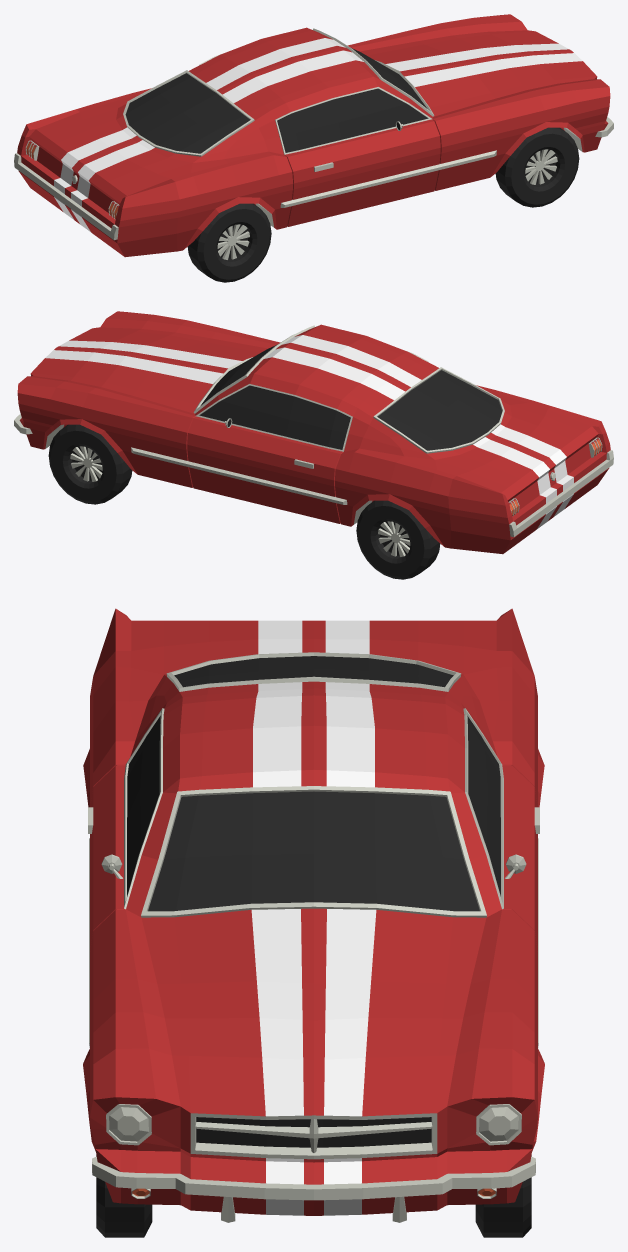
Rendered from car.fbx.
3 renders of one model, top to bottom at view 1: azimuth 30°, elevation 25°; view 2: azimuth 150°, elevation 25°; view 3: azimuth 270°, elevation 25°, orthographic. The views are drawn at different scales.
Visible parts, largest first — view 1: mustang; view 2: mustang; view 3: mustang.
Part boxes in pixels (box(x1,y1,x2,y2)): mustang: box(14, 14, 613, 282); mustang: box(14, 311, 613, 579); mustang: box(83, 608, 544, 1237).
Bounding box in the file's own units: 427 × 125 × 166.
